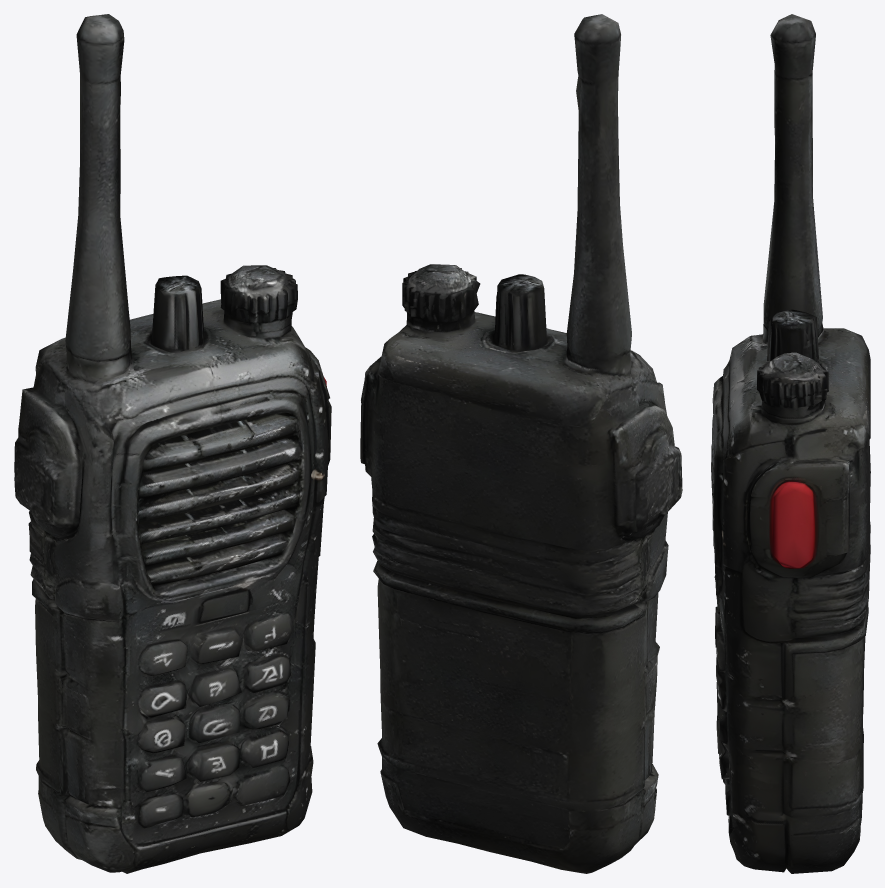
Rendered from walkie_talkie.fbx.
3 views of the same model, side by side, from view 1: azimuth 30°, elevation 25°; view 2: azimuth 150°, elevation 25°; view 3: azimuth 270°, elevation 25° (orthographic). The views are drawn at different scales.
Parts seen in each view (by area): view 1: walkie_talkie; view 2: walkie_talkie; view 3: walkie_talkie.
Part boxes in pixels (x1=…): walkie_talkie: x1=14, y1=14, x2=331, y2=873; walkie_talkie: x1=360, y1=14, x2=682, y2=873; walkie_talkie: x1=711, y1=14, x2=870, y2=873.
Bounding box in the file's own units: 0.0793 × 0.22 × 0.0409.
1 material, 1 textured.
